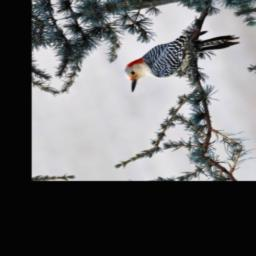Woodpecker: (114, 23, 251, 92)
